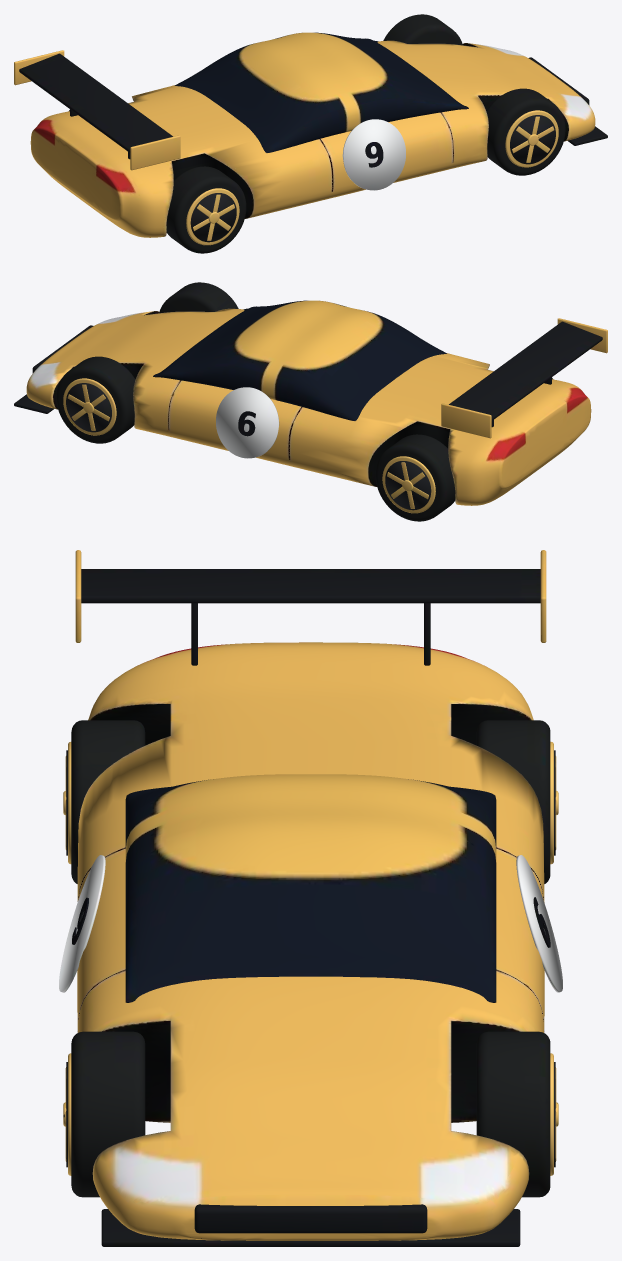
File: car-3.glb
The picture shows the model from 3 angles, top to bottom: view 1: azimuth 30°, elevation 25°; view 2: azimuth 150°, elevation 25°; view 3: azimuth 270°, elevation 25°; orthographic projection. The views are drawn at different scales.
Visible parts, largest first — view 1: Body, Body_2, Body_8, Body_3, Body_4, Body_9, Body_10, Body_1; view 2: Body, Body_2, Body_8, Body_3, Body_6, Body_9, Body_10, Body_1; view 3: Body, Body_2, Body_8, Body_3, Body_1, Body_9, Body_4, Body_6.
Part boxes in pixels (bbox=[...]): Body: bbox=[14, 40, 595, 237]; Body_2: bbox=[175, 32, 468, 152]; Body_8: bbox=[69, 14, 565, 253]; Body_3: bbox=[19, 53, 607, 159]; Body_4: bbox=[342, 119, 405, 190]; Body_9: bbox=[186, 110, 558, 245]; Body_10: bbox=[190, 115, 555, 242]; Body_1: bbox=[171, 43, 568, 218]; Body: bbox=[26, 308, 607, 505]; Body_2: bbox=[153, 300, 446, 420]; Body_8: bbox=[56, 282, 553, 521]; Body_3: bbox=[14, 321, 602, 427]; Body_6: bbox=[216, 387, 279, 458]; Body_9: bbox=[63, 378, 435, 513]; Body_10: bbox=[66, 383, 431, 510]; Body_1: bbox=[53, 311, 450, 486]; Body: bbox=[75, 550, 546, 1240]; Body_2: bbox=[125, 774, 496, 1002]; Body_8: bbox=[71, 720, 550, 1197]; Body_3: bbox=[81, 569, 540, 1246]; Body_1: bbox=[90, 704, 531, 1122]; Body_9: bbox=[63, 741, 558, 1175]; Body_4: bbox=[59, 855, 105, 992]; Body_6: bbox=[516, 855, 562, 992].
Size of the model in its own units: 4.9 by 1.2 by 2.19.
13 materials, 13 textured.
